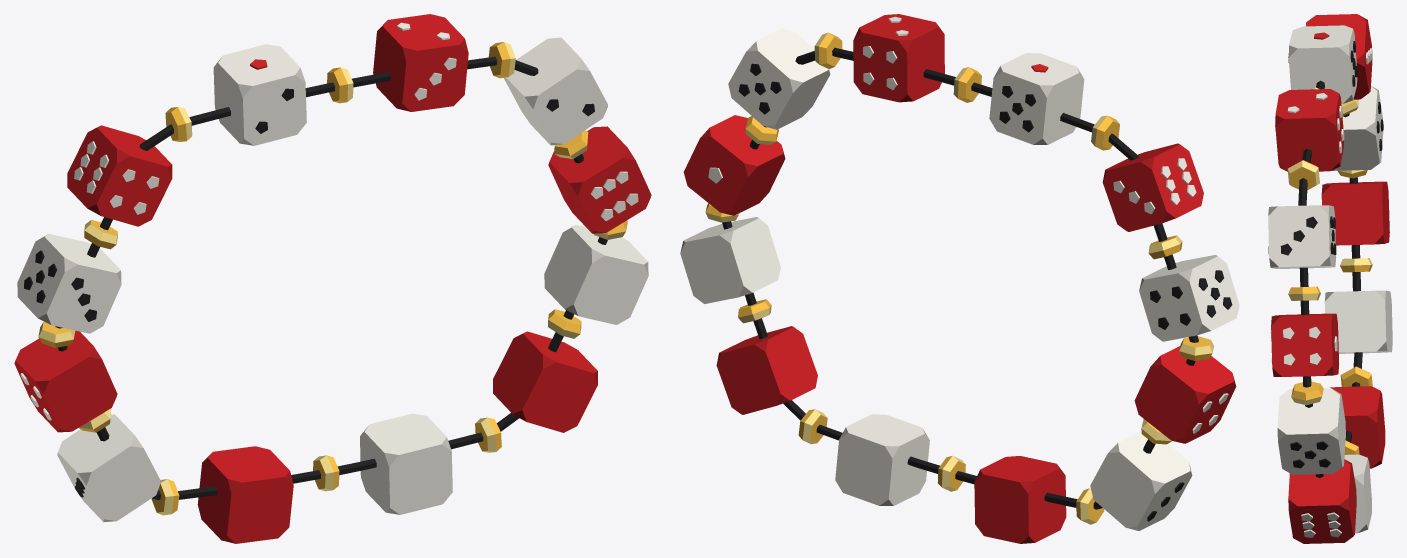
Rendered from Wrist_DiceBeads.fbx.
The picture shows the model from 3 angles, left to right: view 1: azimuth 30°, elevation 25°; view 2: azimuth 150°, elevation 25°; view 3: azimuth 270°, elevation 25°; orthographic projection. The views are drawn at different scales.
Parts seen in each view (by area): view 1: Wrist_DiceBeads; view 2: Wrist_DiceBeads; view 3: Wrist_DiceBeads.
Part boxes in pixels (x1,y1,x2,y2): Wrist_DiceBeads: [14, 14, 651, 543]; Wrist_DiceBeads: [680, 14, 1239, 543]; Wrist_DiceBeads: [1268, 14, 1392, 543].
Size of the model in its own units: 0.5294 by 0.416 by 0.1106.
1 material, 1 textured.
